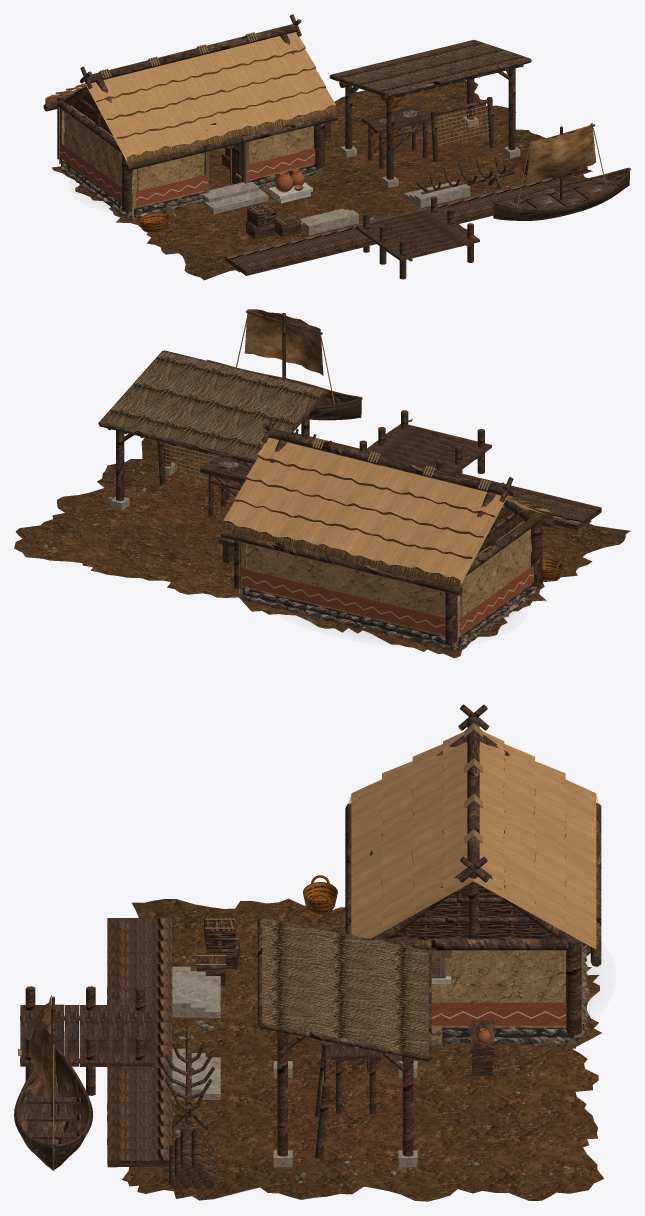
Rendered from harbor.glb.
The picture shows the model from 3 angles, top to bottom: view 1: azimuth 30°, elevation 25°; view 2: azimuth 150°, elevation 25°; view 3: azimuth 270°, elevation 25°; orthographic projection. The views are drawn at different scales.
Parts seen in each view (by area): view 1: part_0, part_4, part_18, part_8, part_14, part_13, part_1, part_22, part_19, part_16, part_7, part_2 (+8 smaller); view 2: part_18, part_0, part_4, part_14, part_8, part_22, part_19, part_13, part_7, part_16, part_21, part_2 (+2 smaller); view 3: part_4, part_0, part_18, part_14, part_13, part_8, part_12, part_1, part_22, part_7, part_16, part_2 (+2 smaller).
Part boxes in pixels (x1,y1,x2,y2): part_0: (43,14,630,279); part_4: (51,81,592,280); part_18: (46,32,335,161); part_8: (59,105,322,215); part_14: (332,40,528,93); part_13: (350,125,508,184); part_1: (201,116,520,235); part_22: (59,142,315,206); part_19: (45,47,336,163); part_16: (527,122,596,181); part_7: (60,110,417,220); part_2: (99,32,606,238); part_18: (223,437,552,584); part_0: (98,310,601,643); part_4: (14,437,630,658); part_14: (101,351,324,459); part_8: (238,521,537,646); part_22: (242,565,533,635); part_19: (223,455,552,587); part_13: (123,473,239,533); part_7: (218,461,535,651); part_16: (244,309,323,375); part_21: (243,584,535,650); part_2: (163,318,511,496); part_4: (122,898,604,1201); part_0: (14,704,601,1189); part_18: (351,731,596,949); part_14: (262,918,428,1055); part_13: (288,1074,402,1165); part_8: (431,942,582,1044); part_12: (204,884,554,949); part_1: (172,966,417,1167); part_22: (431,1002,566,1025); part_7: (345,945,588,1048); part_16: (29,995,55,1098); part_2: (18,723,483,1144).
Bounding box in the file's own units: 9.51 × 3.03 × 7.82.
Materials: 23 (18 with a texture image).
